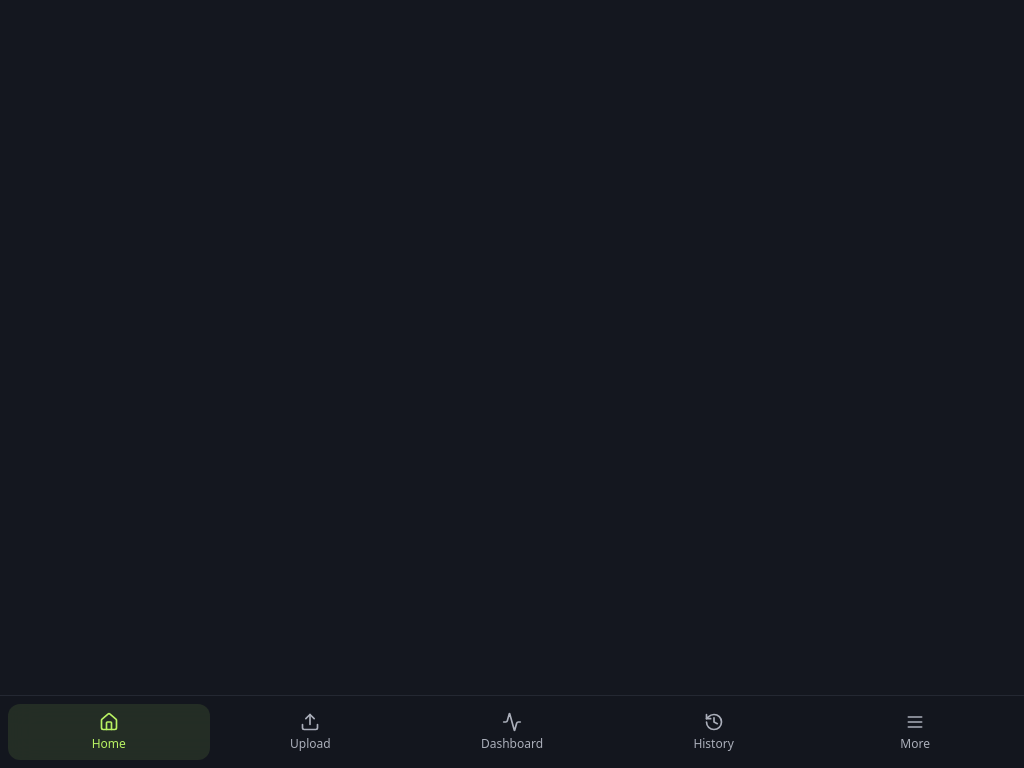
Test case: MobileNavigation › should open mobile menu sheet when More button is clicked
Click the button "More" at x=915, y=732, box [814, 704, 1016, 760]
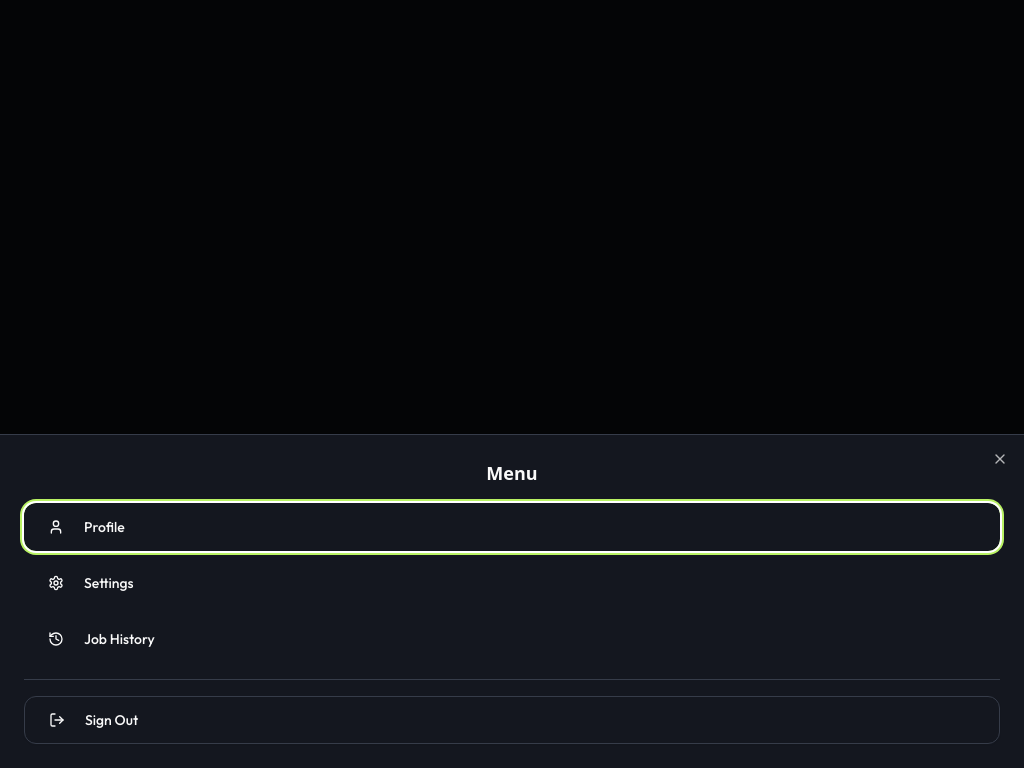
Check: the heading "Menu" is shown, box [486, 461, 538, 485]
Check: the button "Profile" is shown, box [24, 503, 1000, 551]
Check: the button "Settings" is shown, box [24, 559, 1000, 607]
